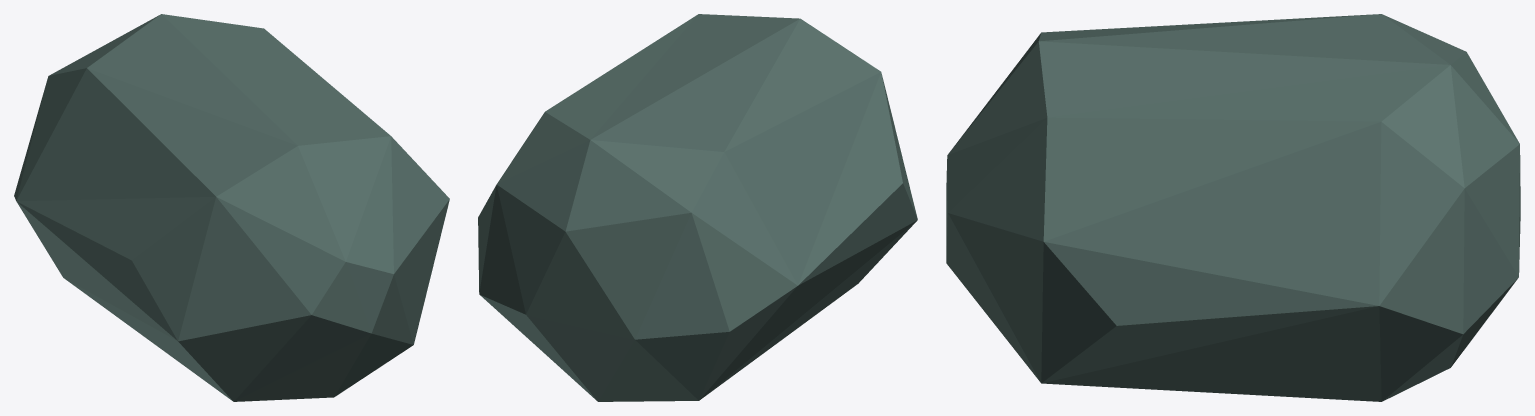
3 renders of one model, left to right at view 1: azimuth 30°, elevation 25°; view 2: azimuth 150°, elevation 25°; view 3: azimuth 270°, elevation 25°, orthographic. The views are drawn at different scales.
Visible parts, largest first — view 1: ant-node; view 2: ant-node; view 3: ant-node.
Boxes of the visible parts, box(x1,y1,x2,y2) form: ant-node: box(14, 14, 449, 401); ant-node: box(478, 14, 917, 401); ant-node: box(946, 14, 1520, 401).
Bounding box in the file's own units: 1.13 × 1.49 × 0.893.
